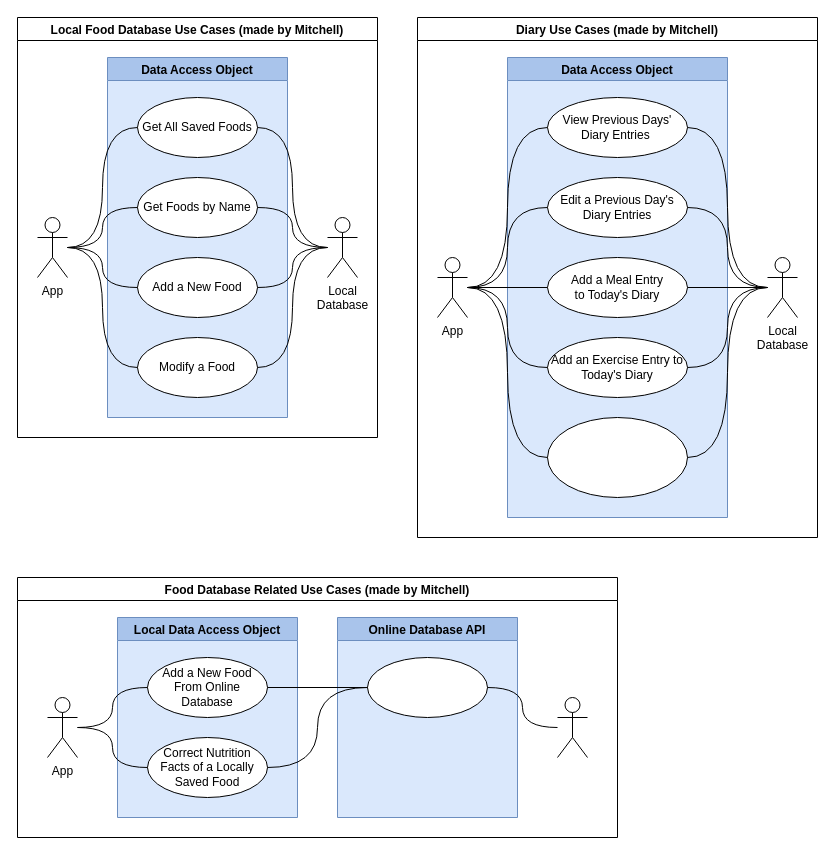
Image size: 835x855. Some labels were removed from this diagram. The centre of each missing label's shape, as x and y in pixels:
"Get Food Nutrition Facts by Name" goes at (427,687).
"Online Database" goes at (572,727).
"View Total Nutrients Consumed & Calories Burned on a Daily or Weely Basis" goes at (617,457).
